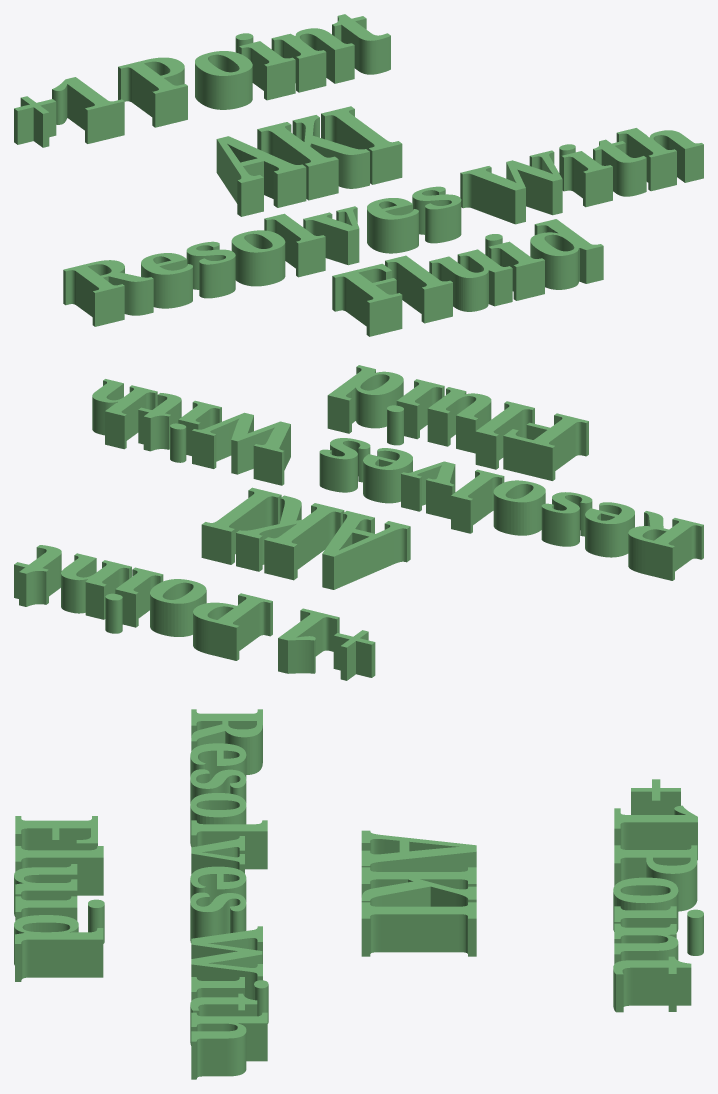
File: poscreat.gltf
3 views of the same model, one above another, from view 1: azimuth 30°, elevation 25°; view 2: azimuth 150°, elevation 25°; view 3: azimuth 270°, elevation 25° (orthographic). The views are drawn at different scales.
Parts seen in each view (by area): view 1: Mesh_Mesh_head_geo001_lambert2SG001; view 2: Mesh_Mesh_head_geo001_lambert2SG001; view 3: Mesh_Mesh_head_geo001_lambert2SG001.
Boxes of the visible parts, x1=… form: Mesh_Mesh_head_geo001_lambert2SG001: x1=14, y1=14, x2=703, y2=336; Mesh_Mesh_head_geo001_lambert2SG001: x1=14, y1=365, x2=703, y2=680; Mesh_Mesh_head_geo001_lambert2SG001: x1=14, y1=709, x2=703, y2=1079.
Bounding box in the file's own units: 188 × 10 × 165.
